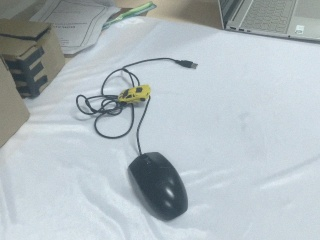box: (1, 17, 67, 100), (1, 51, 30, 160)
mouse: (126, 151, 189, 222)
toy_car: (118, 84, 152, 104)
